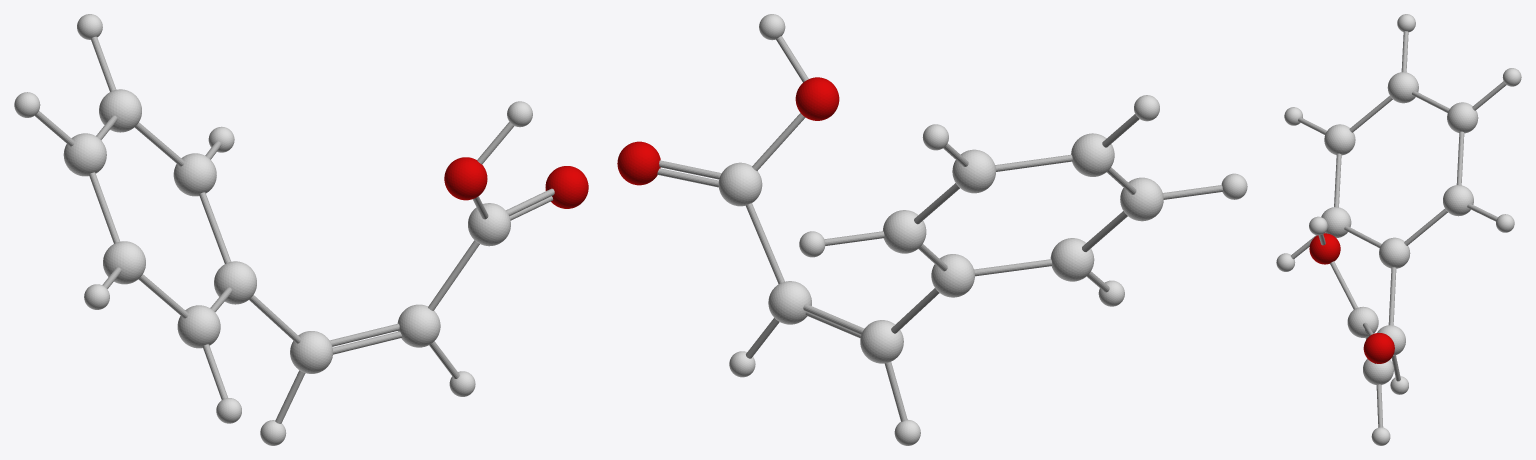
The model's file is c1ccccc1C_CC__O_O.glb.
The picture shows the model from 3 angles, left to right: view 1: azimuth 30°, elevation 25°; view 2: azimuth 150°, elevation 25°; view 3: azimuth 270°, elevation 25°; orthographic projection. The views are drawn at different scales.
Parts seen in each view (by area): view 1: world; view 2: world; view 3: world.
Part boxes in pixels (x1,y1,x2,y2): world: [14, 14, 588, 445]; world: [617, 14, 1247, 445]; world: [1276, 14, 1521, 445].
Size of the model in its own units: 7.47 by 5.2 by 3.93.
